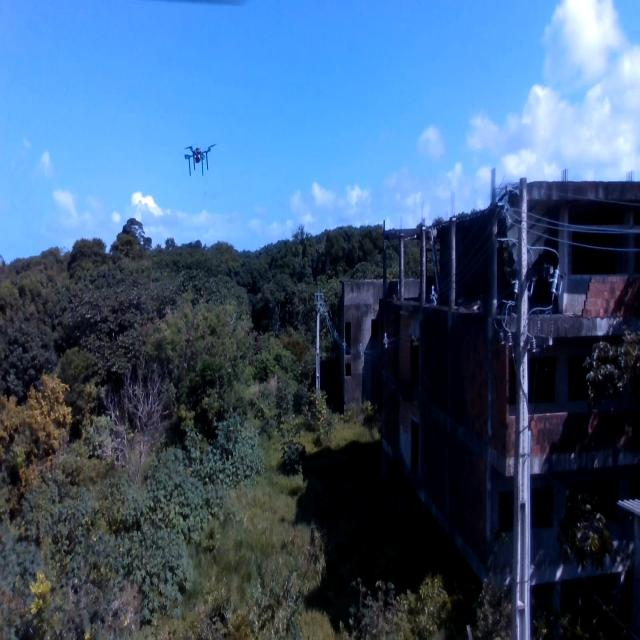-uav-: (182, 136, 225, 193)
